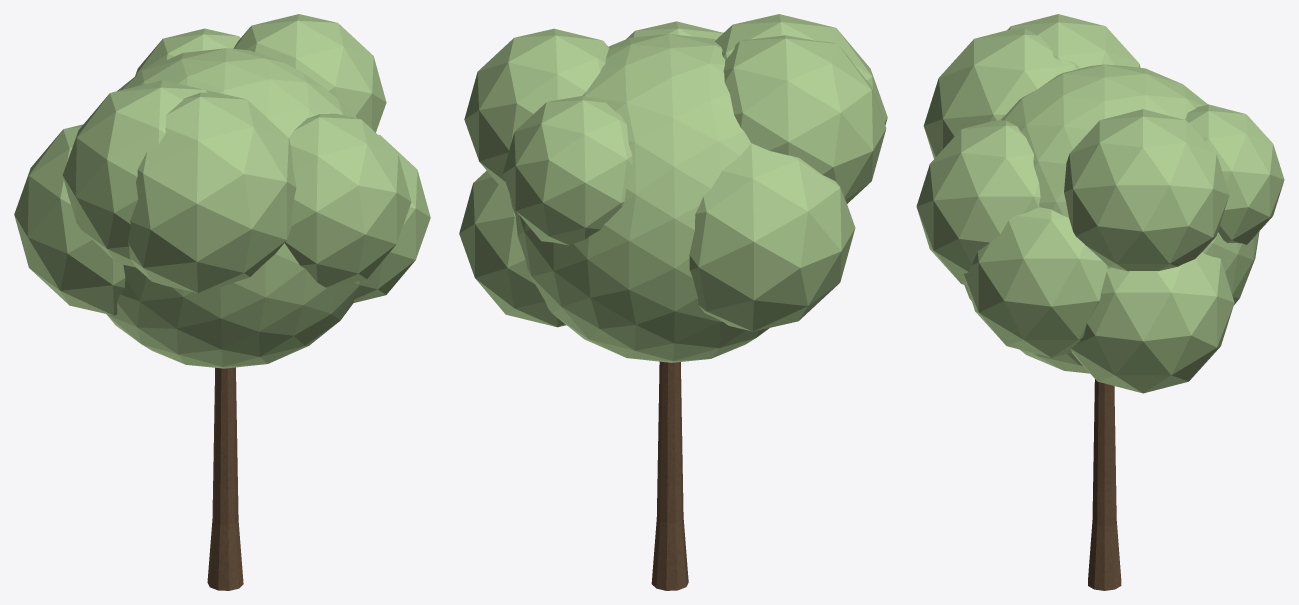
The model's file is tree_b.glb.
3 views of the same model, side by side, from view 1: azimuth 30°, elevation 25°; view 2: azimuth 150°, elevation 25°; view 3: azimuth 270°, elevation 25° (orthographic). The views are drawn at different scales.
Parts seen in each view (by area): view 1: tree_b_leaf2, tree_b_bark; view 2: tree_b_leaf2, tree_b_bark; view 3: tree_b_leaf2, tree_b_bark.
Part boxes in pixels (x1,y1,x2,y2): tree_b_leaf2: (14, 14, 430, 368); tree_b_bark: (207, 367, 243, 590); tree_b_leaf2: (459, 14, 887, 362); tree_b_bark: (651, 361, 688, 590); tree_b_leaf2: (916, 14, 1284, 393); tree_b_bark: (1088, 379, 1121, 590).
Bounding box in the file's own units: 4.07 × 5.85 × 3.76.
2 materials, 1 textured.
